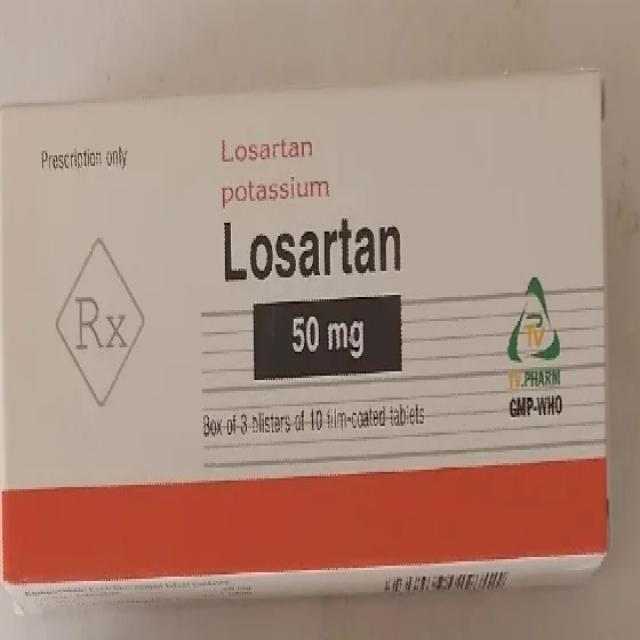drug-name: (220, 215, 408, 282)
